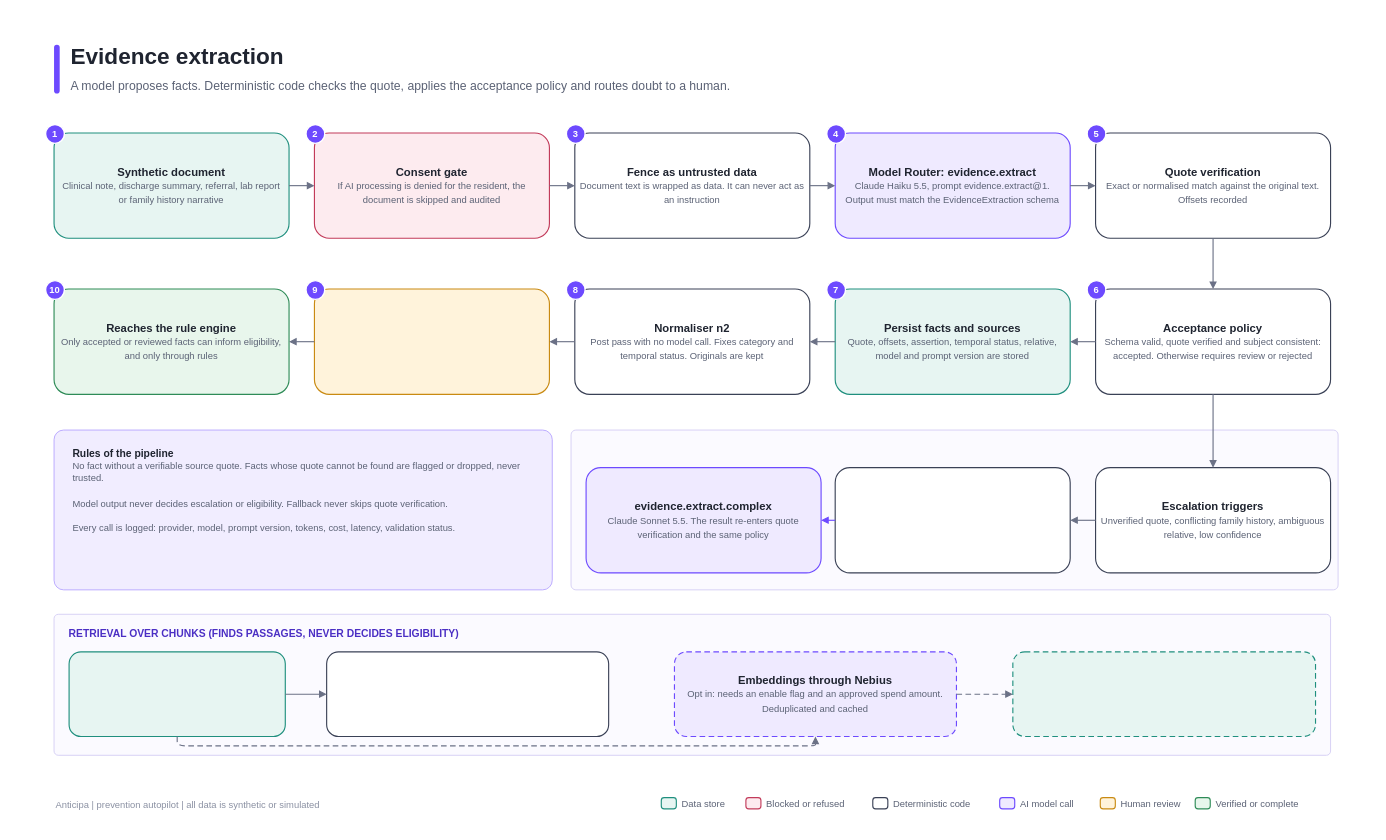
The diagram is 1386 pixels wide and 840 high, and some of its shapes have lost their labels. The box of each missing label's shape, as (x1, y1, x2, y2) in pixels:
Cap check At most 10% of the cohort's documents across all runs: (834, 467, 1070, 573)
Document chunks Offsets kept, content hashed: (68, 651, 285, 737)
ESCALATION TO THE STRONGER MODEL (DECIDED BY CODE, CAPPED): (570, 429, 1338, 590)
pgvector index (1,024 dimensions) Semantic search, only when embeddings exist: (1012, 651, 1316, 737)
PostgreSQL full text search The default. Deterministic and free: (326, 651, 609, 737)
Review queue A clinical reviewer accepts or rejects every requires_review fact: (313, 288, 550, 394)
